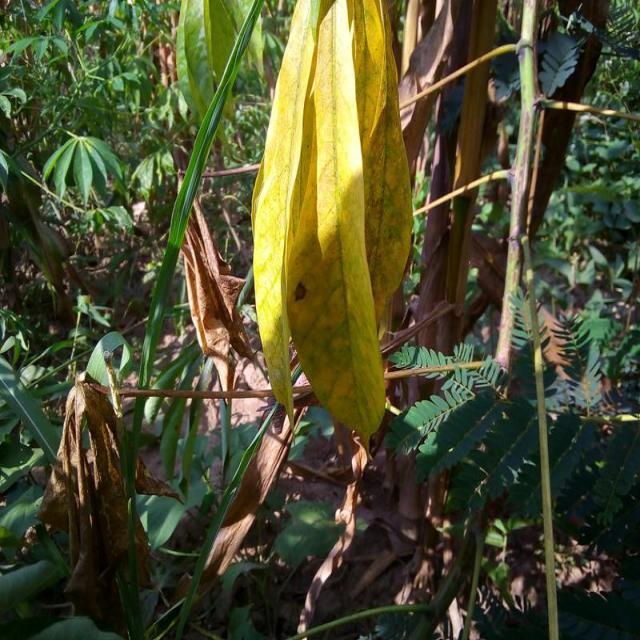cassava leaf: (251, 0, 415, 452)
